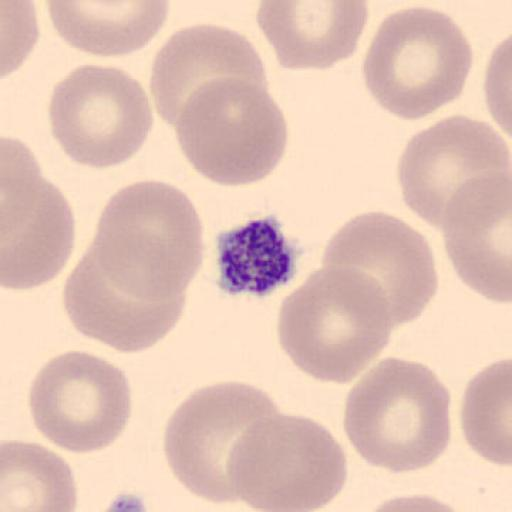Platelet: (212, 213, 303, 299)
RBC: (162, 379, 289, 507), (92, 177, 207, 301), (60, 243, 188, 354), (276, 265, 394, 385), (320, 208, 438, 327), (360, 4, 476, 122), (396, 113, 511, 231), (149, 21, 271, 131), (342, 354, 452, 474), (174, 75, 288, 189), (224, 413, 349, 511), (0, 136, 77, 293), (47, 63, 155, 170), (28, 348, 133, 454), (441, 170, 512, 304), (256, 1, 371, 71), (44, 0, 171, 59), (459, 356, 512, 469), (1, 438, 79, 512), (483, 33, 512, 149), (0, 0, 40, 79), (364, 492, 472, 512)
